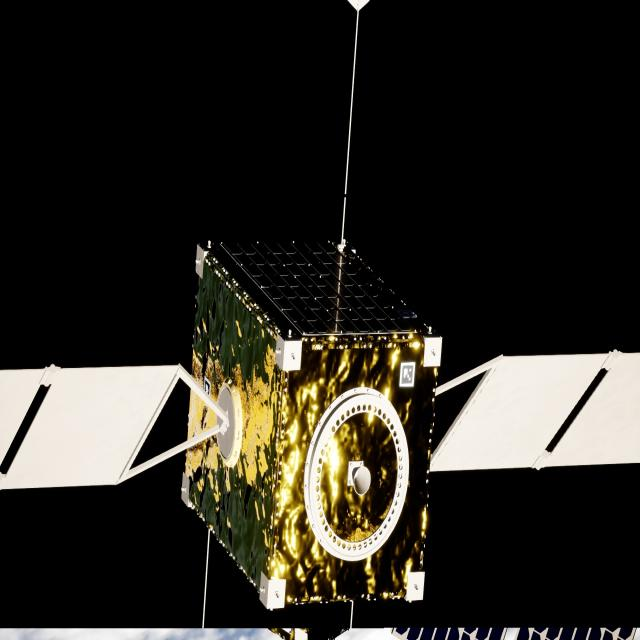satellite: (0, 241, 640, 610)
